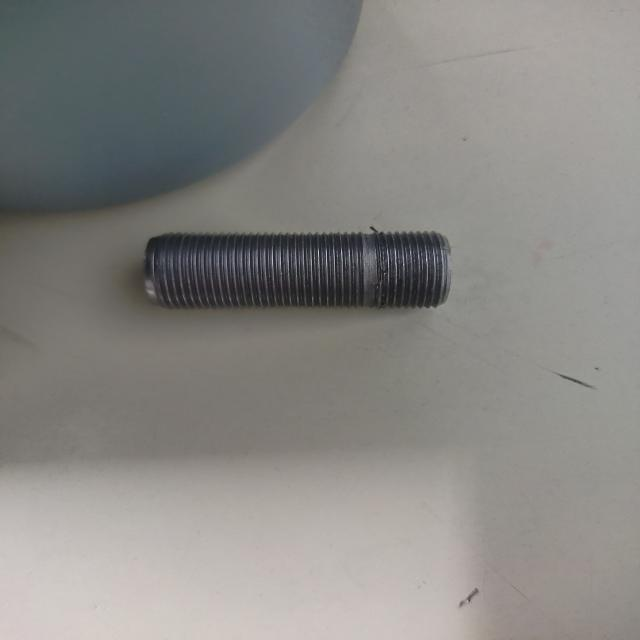Broken: (145, 230, 450, 311)
